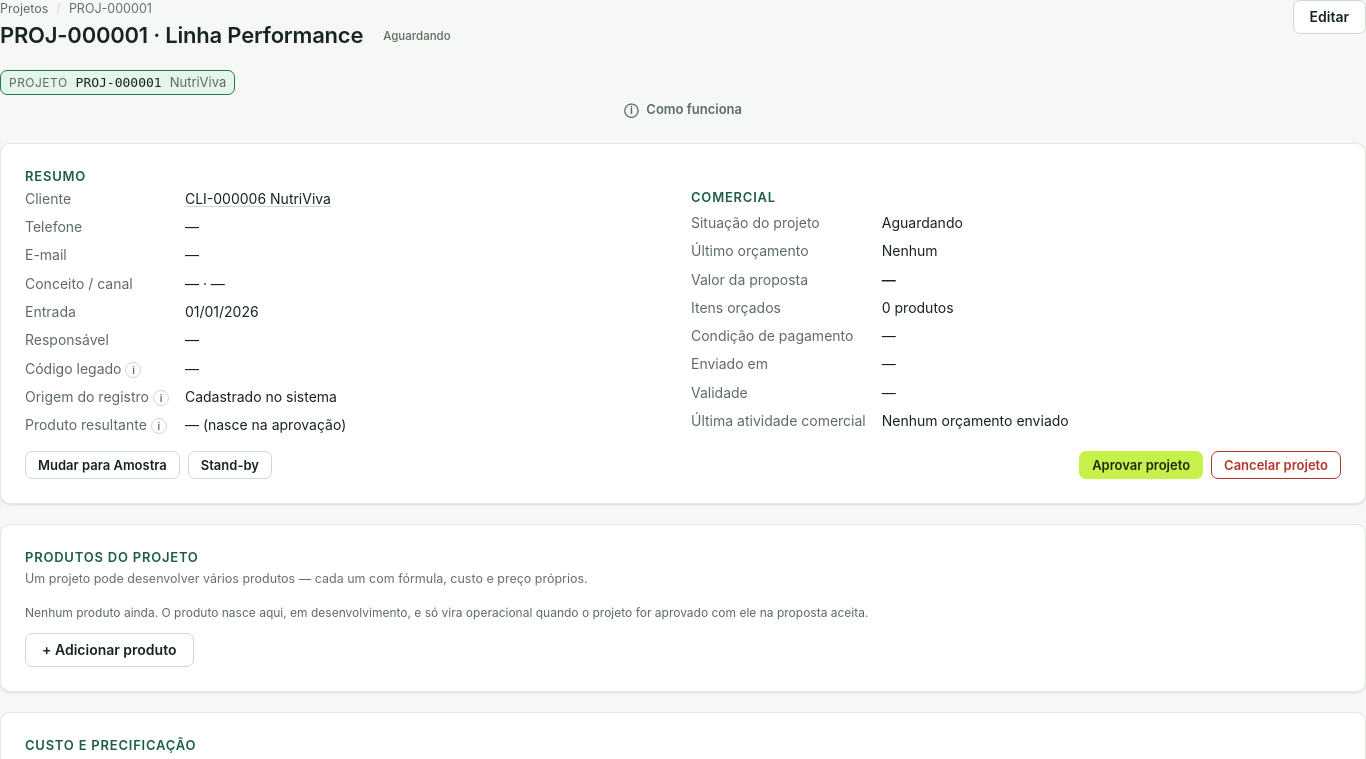
Test case: Projeto (detalhe) › diz que enviado congela a versão — e a explicação começa fechada
This screenshot has width=1366, height=759.
Expected: the text "PROJ-000001" next to "Projetos" is shown, [69,1,152,16]
Click the button "ⓘ Como funciona". click: (683, 110)
box: [0,96,1365,124]
(page scrolled)
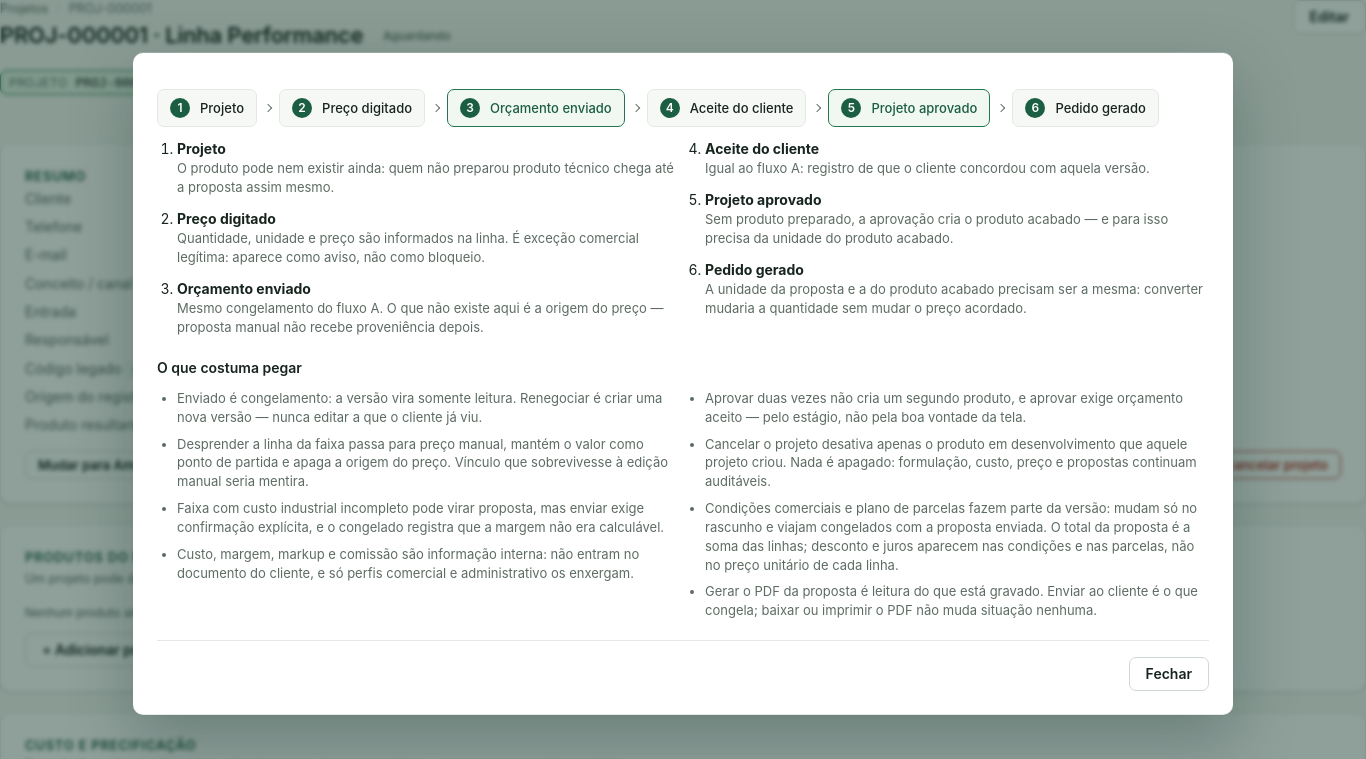
Expected: the button "ⓘ Como funciona" is expanded, [0,96,1365,124]
Expected: the list item "Enviado é congelamento" is shown, [177,390,662,424]
Click the button "Fechar". click: (1169, 674)
box: [1129,657,1209,691]
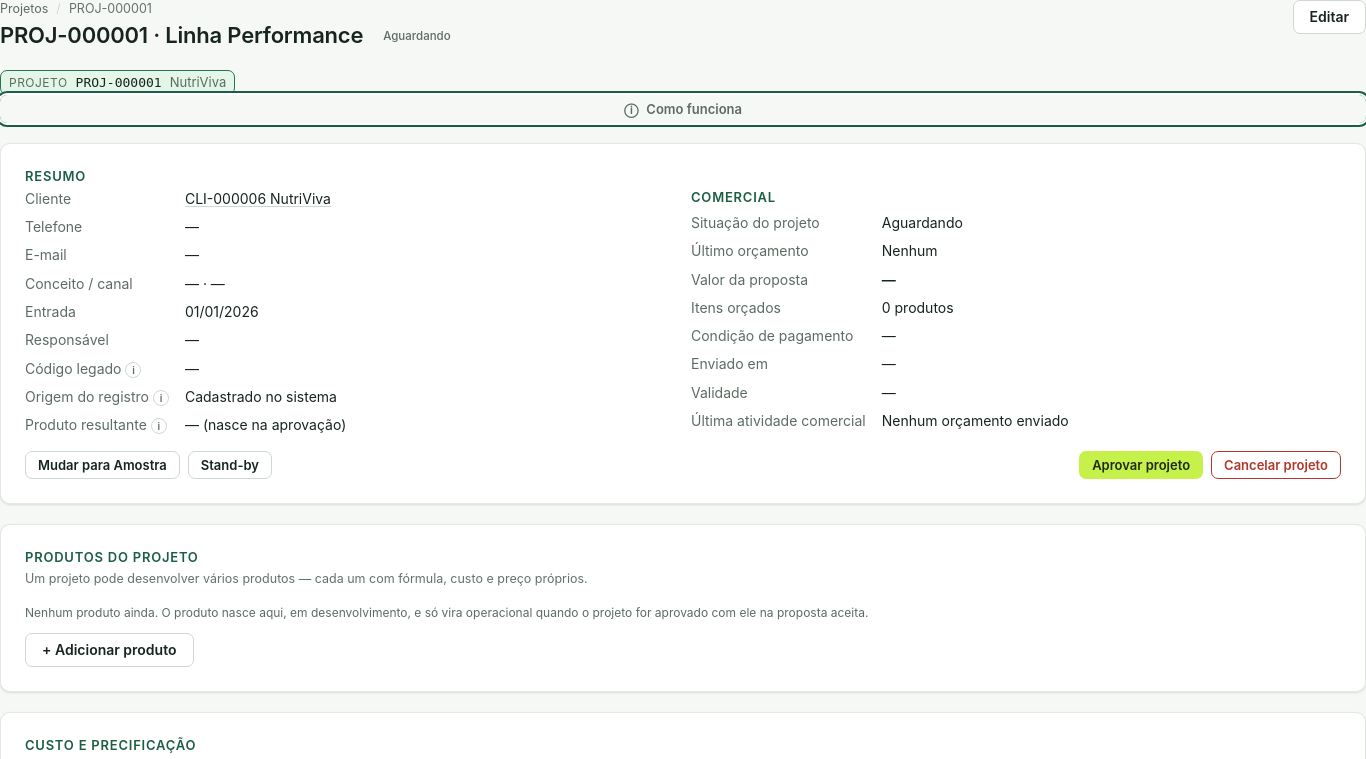
Expected: the button "ⓘ Como funciona" is collapsed, [0,96,1365,124]
